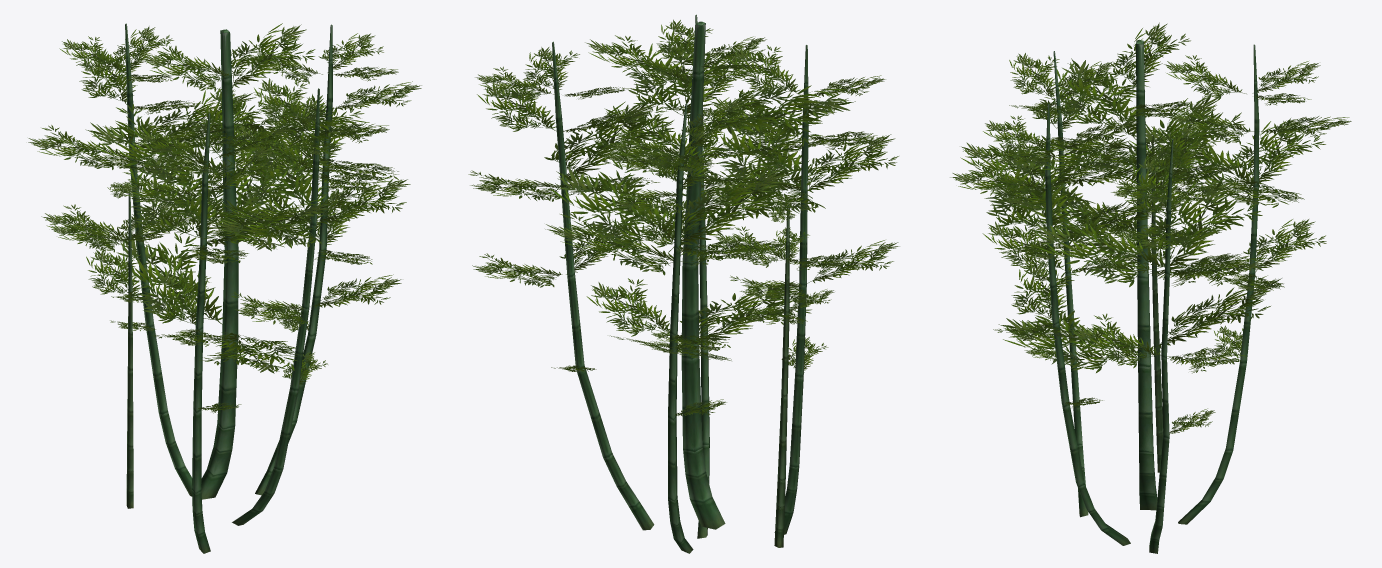
The picture shows the model from 3 angles, left to right: view 1: azimuth 30°, elevation 25°; view 2: azimuth 150°, elevation 25°; view 3: azimuth 270°, elevation 25°; orthographic projection. The views are drawn at different scales.
Parts seen in each view (by area): view 1: group2_polySurface2730; view 2: group2_polySurface2730; view 3: group2_polySurface2730.
Boxes of the visible parts, x1,y1,x2,y2 form: group2_polySurface2730: (28,23,421,553); group2_polySurface2730: (468,14,899,553); group2_polySurface2730: (950,22,1351,553).
Size of the model in its own units: 29.95 by 37.18 by 28.94.
